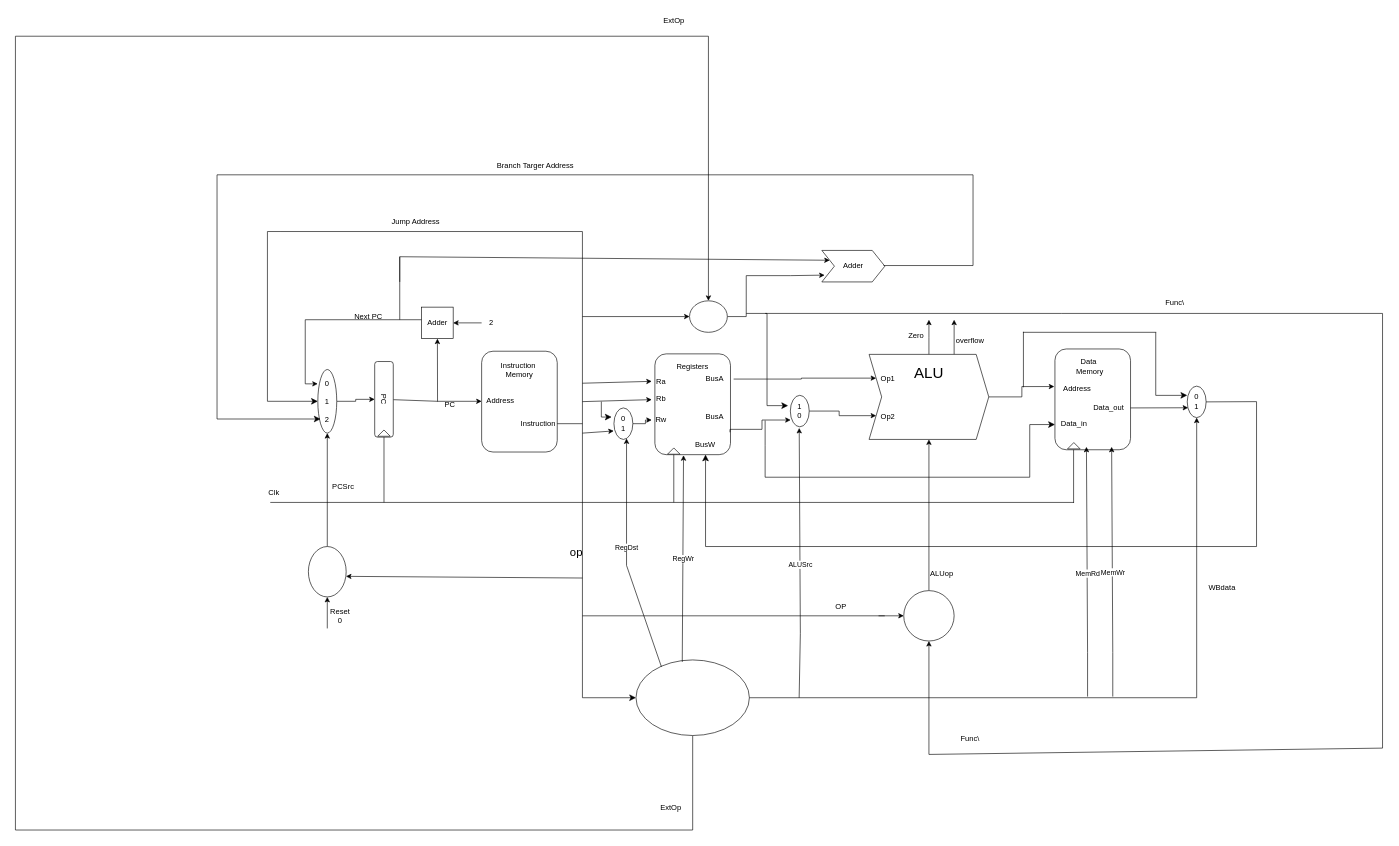
The diagram is 1399 pixels wide and 846 high, and some of its shapes have lost their labels. The shapes that lost their labels are listed below. From the top down, each one's centre as x and y in pixels, then its label:
At pixel 708 316: "Extender".
At pixel 327 571: "PC Control".
At pixel 928 615: "ALU Control".
At pixel 692 697: "Main Control".
